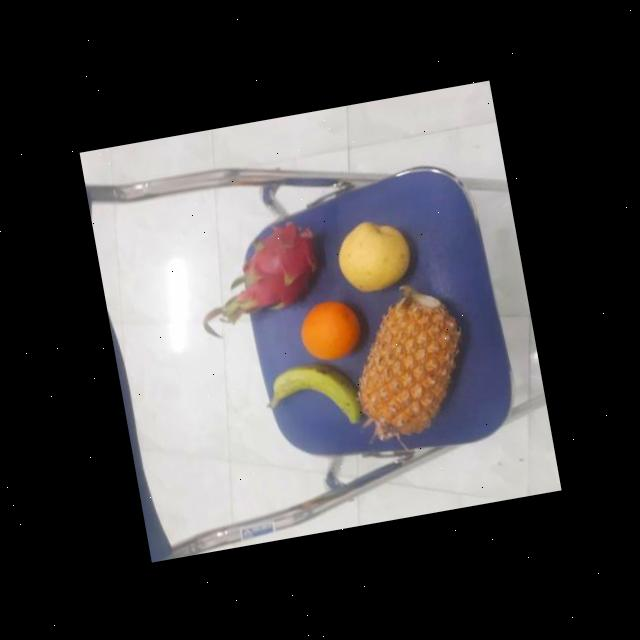orange: (296, 292, 368, 368)
pear: (330, 211, 416, 300)
pineapple: (341, 286, 482, 449)
pitaya: (225, 214, 334, 324), (260, 352, 364, 436)
